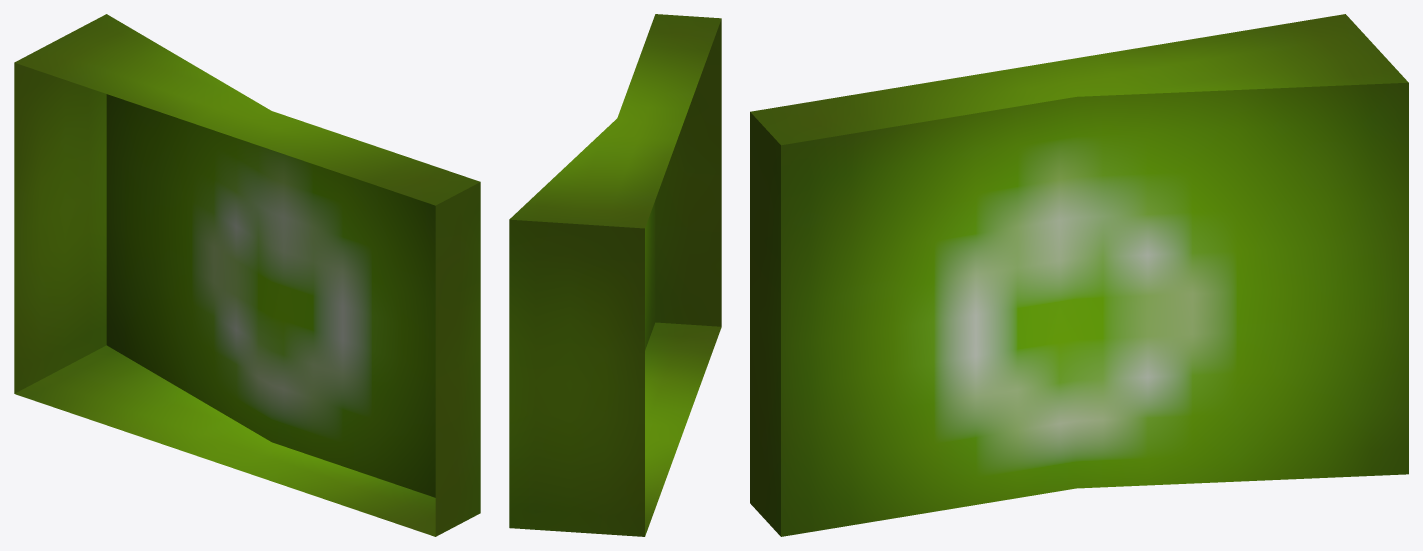
Rendered from SM_光谱仪_电源开关.FBX.
3 renders of one model, left to right at view 1: azimuth 30°, elevation 25°; view 2: azimuth 150°, elevation 25°; view 3: azimuth 270°, elevation 25°, orthographic. The views are drawn at different scales.
Visible parts, largest first — view 1: SM_光谱仪_电源开关; view 2: SM_光谱仪_电源开关; view 3: SM_光谱仪_电源开关.
Part boxes in pixels (x1,y1,x2,y2): SM_光谱仪_电源开关: [14, 14, 480, 536]; SM_光谱仪_电源开关: [509, 14, 721, 536]; SM_光谱仪_电源开关: [750, 14, 1408, 536].
Size of the model in its own units: 0.017 by 0.0237 by 0.0361.
